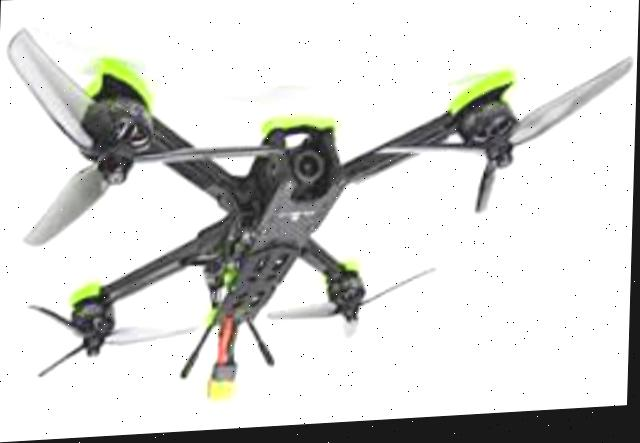drone: (0, 0, 589, 422)
